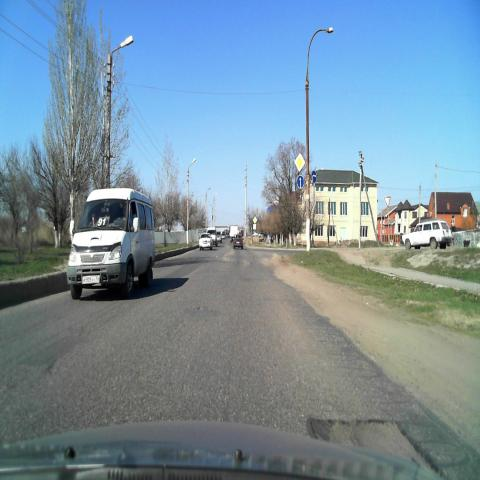4_1_1: (297, 174, 304, 189)
